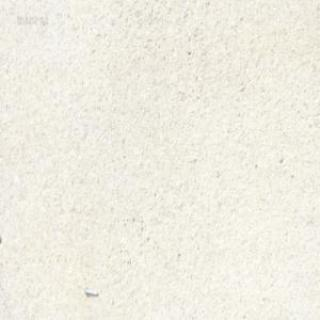Nailtrack_idkeyframe: (82, 286, 98, 297)
